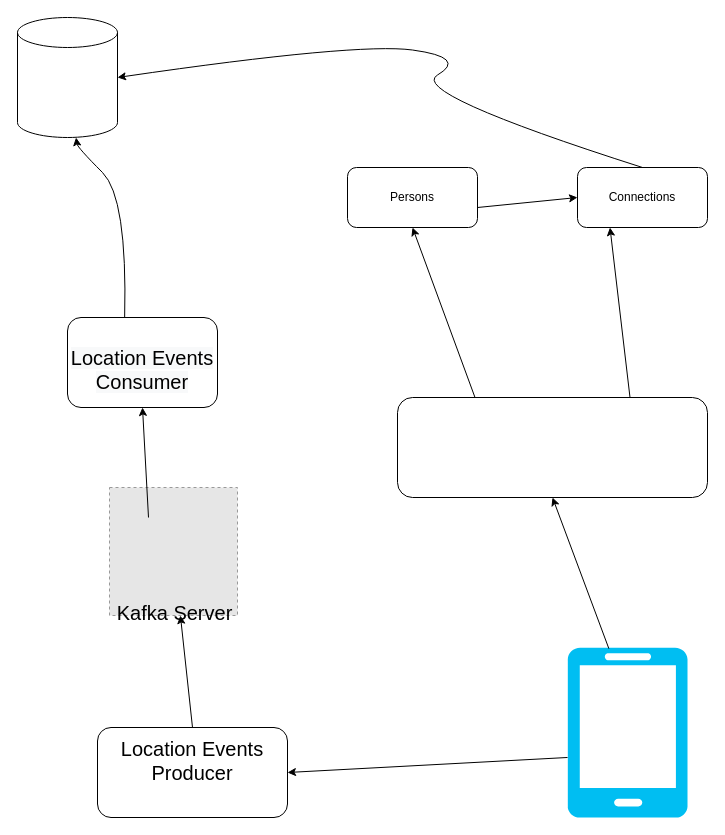
This 725x835 diagram has some shape labels left out. Grey dashed boxes stand in for pictures. The centre of each missing label's shape, as x and y in pixels:
DB: the point at 67,77
Front-End: the point at 552,447
